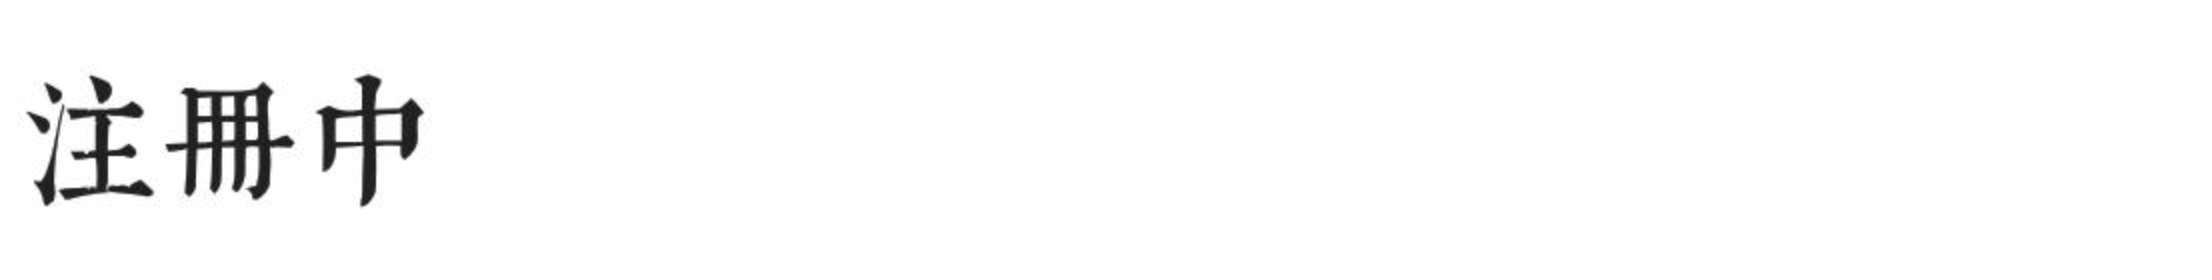TextView: (1, 1, 2211, 279)
